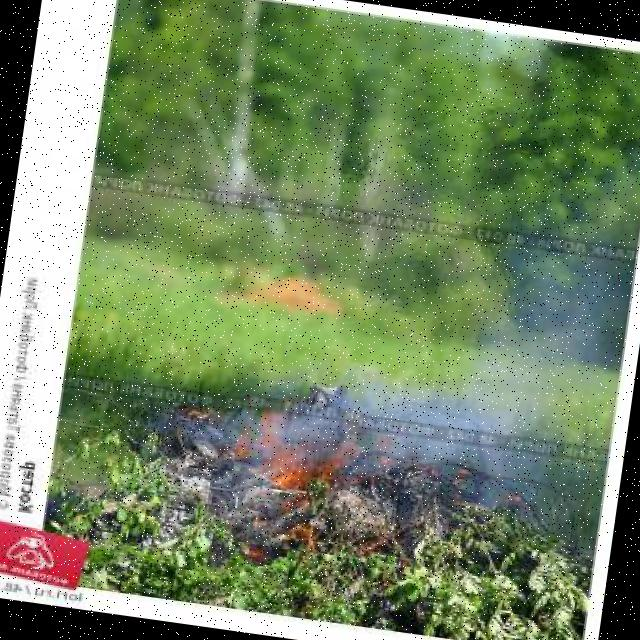fire: (224, 395, 360, 556)
